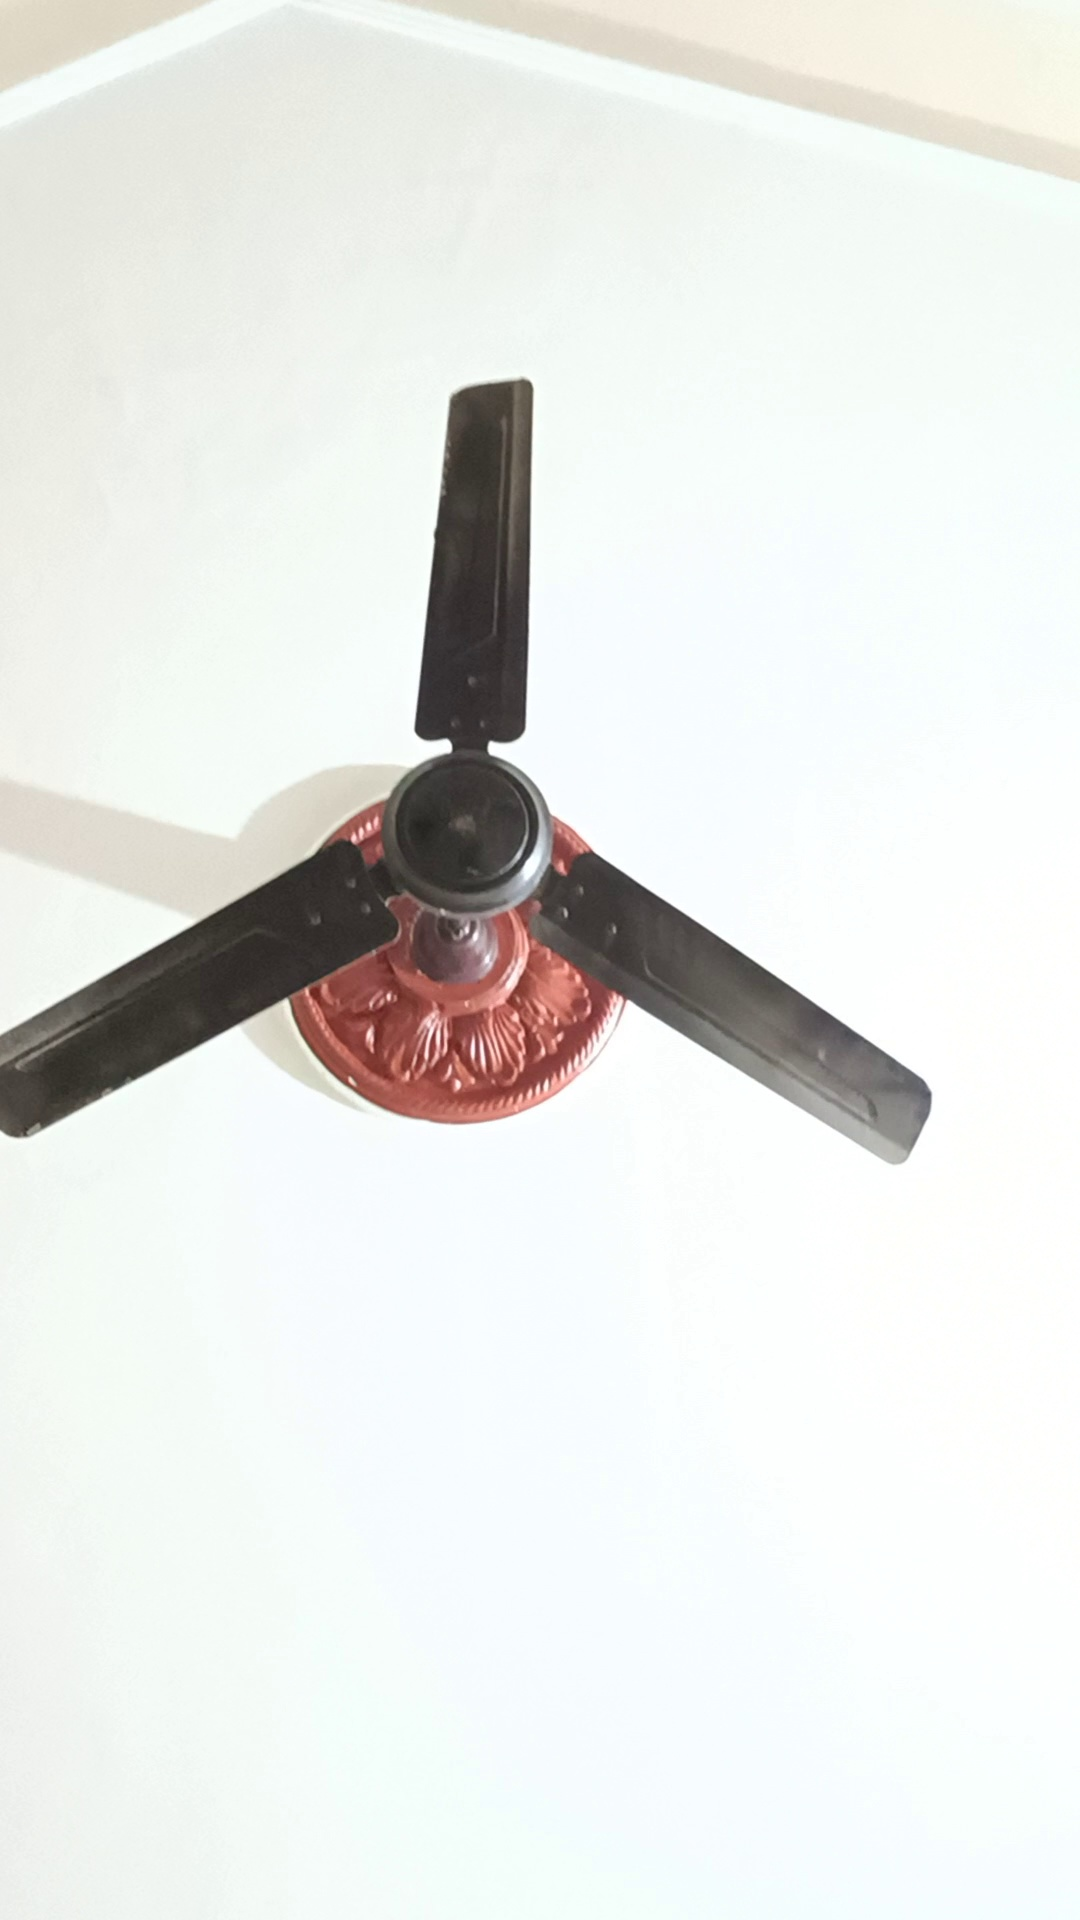fan: (102, 363, 822, 1175)
